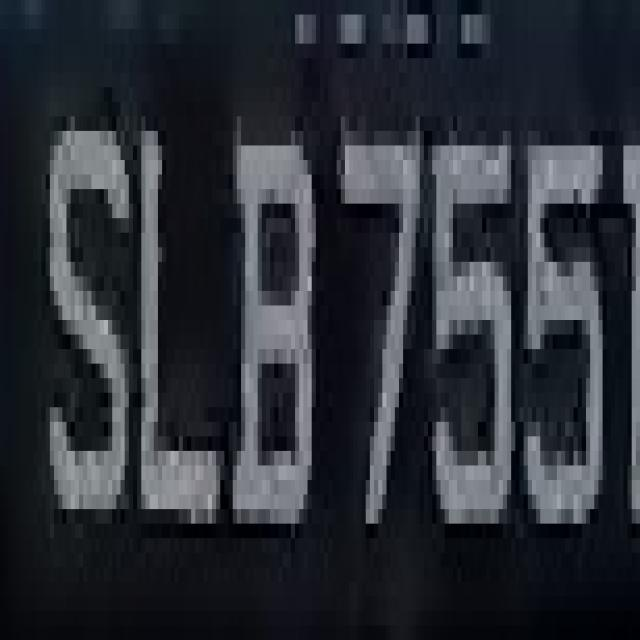5: (515, 131, 615, 582), (428, 88, 515, 568)
7: (328, 87, 420, 553)
B: (224, 72, 316, 524)
L: (137, 72, 212, 552)
S: (38, 72, 137, 552)
